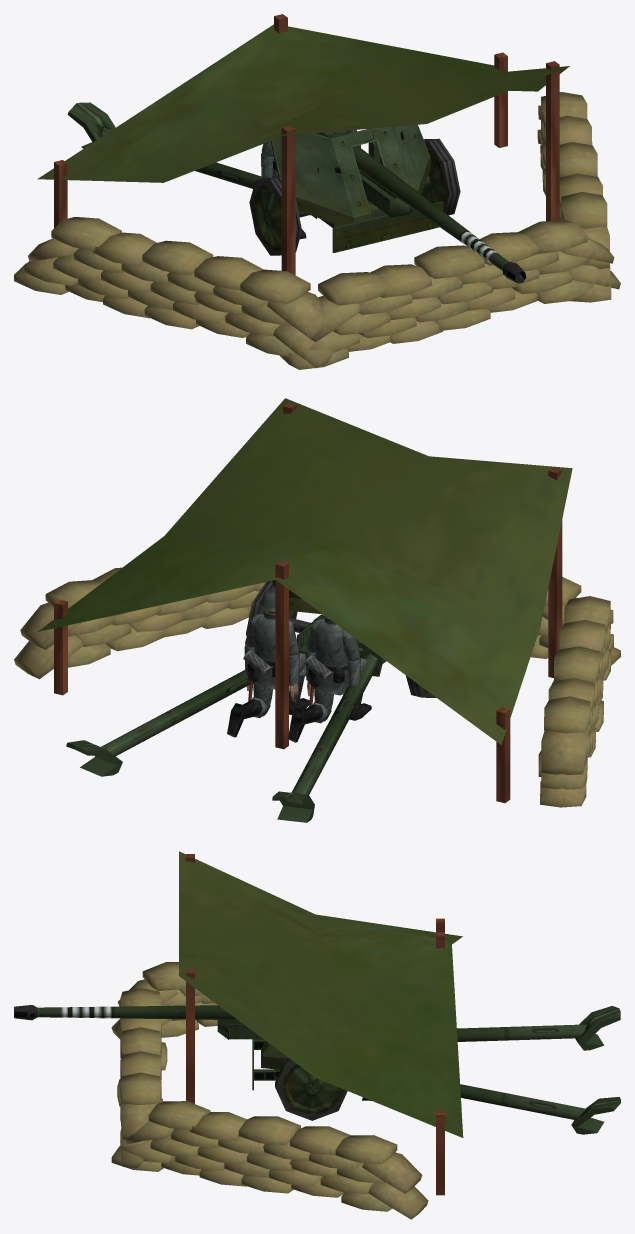
The model's file is GERPaK40_Stationary.dae.
3 renders of one model, top to bottom at view 1: azimuth 30°, elevation 25°; view 2: azimuth 150°, elevation 25°; view 3: azimuth 270°, elevation 25°, orthographic. The views are drawn at different scales.
Parts seen in each view (by area): view 1: base, turret, carriage, barrel, sleeve; view 2: base, carriage, torso1, torso2; view 3: base, carriage, barrel, sleeve, turret.
Boxes of the visible parts, x1,y1,x2,y2 form: base: (14, 14, 620, 369); turret: (270, 124, 430, 225); carriage: (67, 102, 460, 255); barrel: (316, 130, 526, 283); sleeve: (359, 171, 412, 217); base: (14, 398, 620, 807); carriage: (66, 581, 436, 822); torso1: (304, 617, 349, 706); torso2: (243, 612, 290, 701); base: (111, 851, 463, 1219); carriage: (252, 1006, 620, 1134); barrel: (14, 1005, 237, 1020); sleeve: (217, 1020, 263, 1039); turret: (261, 1039, 287, 1069).
Bounding box in the file's own units: 51.33 × 53.38 × 18.15.
Materials: 1 (1 with a texture image).
